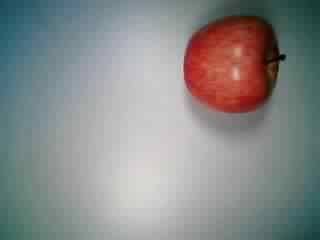apple: (181, 15, 286, 117)
